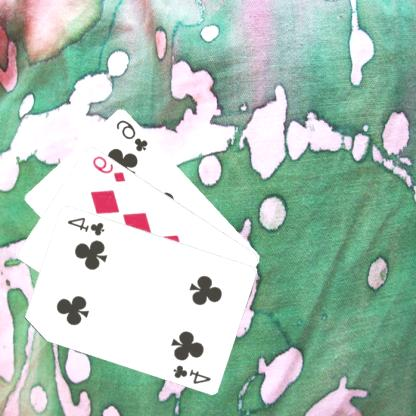4C: (172, 362, 214, 385), (66, 214, 107, 237)
6C: (115, 116, 151, 153)
9D: (91, 152, 129, 184)
